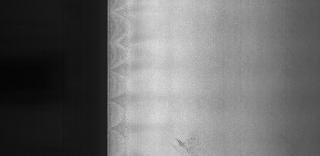water spot: (174, 130, 200, 156)
